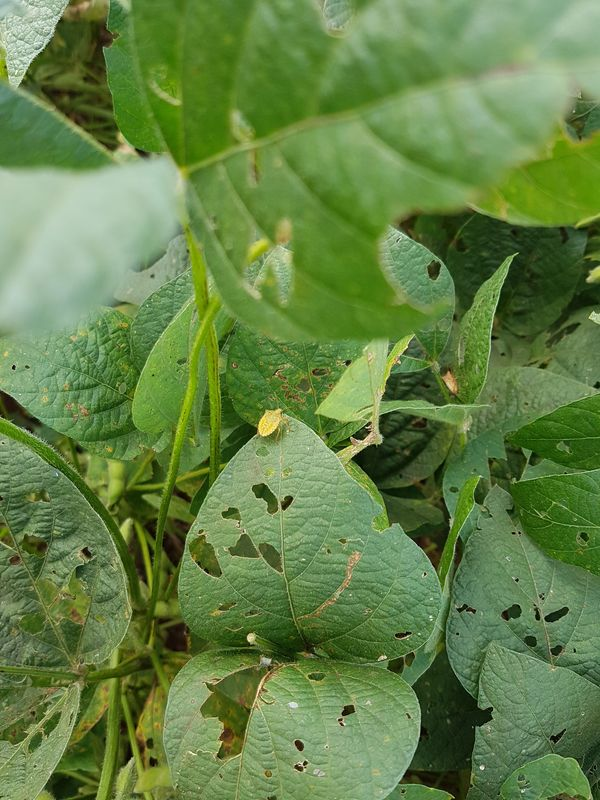Euschistus_heros_adulto: (434, 368, 465, 400)
Euschistus_heros_ninfa: (249, 400, 300, 449)
